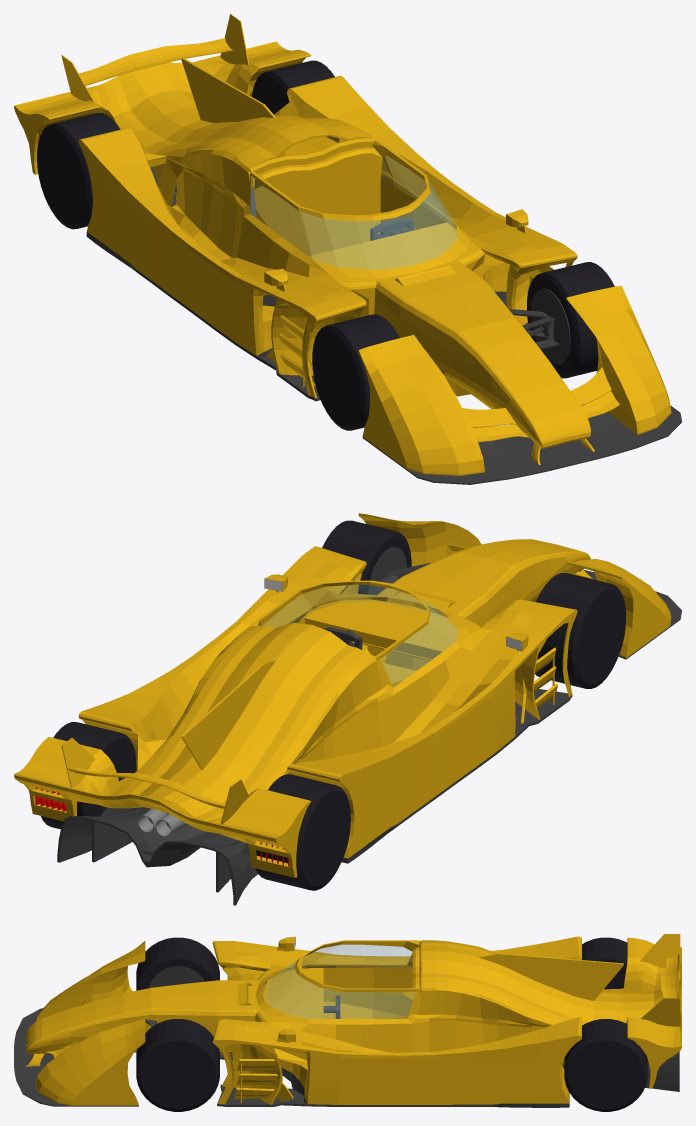
File: FormulaPrototype.glb
The picture shows the model from 3 angles, top to bottom: view 1: azimuth 30°, elevation 25°; view 2: azimuth 150°, elevation 25°; view 3: azimuth 270°, elevation 25°; orthographic projection. The views are drawn at different scales.
Parts seen in each view (by area): view 1: BODY, WHEEL_R, WHEEL_STEERABLE_FR, WHEEL_STEERABLE_FL, AERO, REAR_WING, MIRROR; view 2: BODY, WHEEL_R, WHEEL_STEERABLE_FR, WHEEL_STEERABLE_FL, AERO, REAR_WING, EXAUSTE, MIRROR; view 3: BODY, WHEEL_R, WHEEL_STEERABLE_FL, WHEEL_STEERABLE_FR, REAR_WING, AERO, MIRROR.
Part boxes in pixels (x1=…): BODY: x1=14, y1=41, x2=681, y2=484; WHEEL_R: x1=37, y1=60, x2=334, y2=229; WHEEL_STEERABLE_FR: x1=312, y1=314, x2=399, y2=430; WHEEL_STEERABLE_FL: x1=526, y1=262, x2=614, y2=378; AERO: x1=38, y1=132, x2=619, y2=464; REAR_WING: x1=61, y1=14, x2=251, y2=102; MIRROR: x1=264, y1=209, x2=528, y2=291; BODY: x1=14, y1=513, x2=681, y2=905; WHEEL_R: x1=41, y1=722, x2=350, y2=890; WHEEL_STEERABLE_FR: x1=535, y1=573, x2=625, y2=688; WHEEL_STEERABLE_FL: x1=322, y1=520, x2=411, y2=595; AERO: x1=35, y1=544, x2=596, y2=892; REAR_WING: x1=61, y1=738, x2=248, y2=824; EXAUSTE: x1=138, y1=808, x2=188, y2=836; MIRROR: x1=264, y1=574, x2=528, y2=651; BODY: x1=14, y1=936, x2=681, y2=1107; WHEEL_R: x1=564, y1=937, x2=647, y2=1111; WHEEL_STEERABLE_FL: x1=136, y1=1019, x2=219, y2=1111; WHEEL_STEERABLE_FR: x1=136, y1=937, x2=219, y2=990; REAR_WING: x1=640, y1=934, x2=680, y2=1026; AERO: x1=25, y1=994, x2=293, y2=1102; MIRROR: x1=276, y1=936, x2=295, y2=1042.
Size of the model in its own units: 2 by 1.04 by 5.62.
